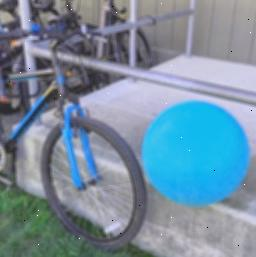algae: (137, 98, 253, 208)
